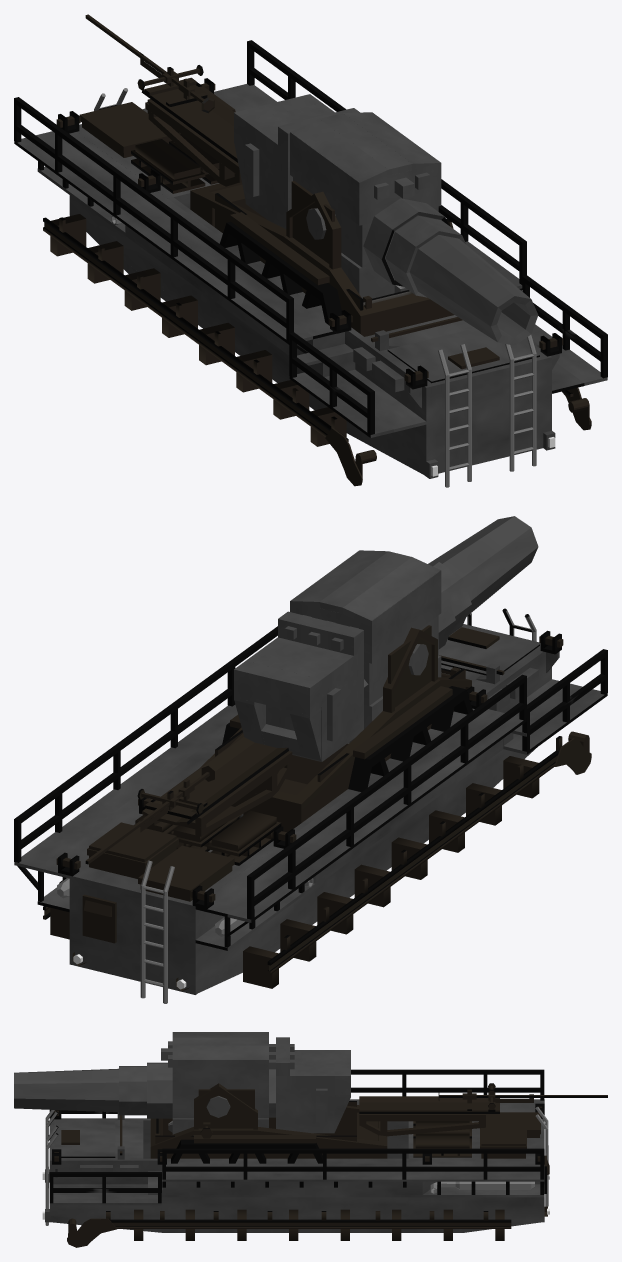
The model's file is karl.glb.
The picture shows the model from 3 angles, top to bottom: view 1: azimuth 30°, elevation 25°; view 2: azimuth 150°, elevation 25°; view 3: azimuth 270°, elevation 25°; orthographic projection. The views are drawn at different scales.
Visible parts, largest first — view 1: Hull, Barrel, Turret, BarrelGun; view 2: Hull, Barrel, Turret, BarrelGun; view 3: Hull, Barrel, Turret, BarrelGun.
Part boxes in pixels (x1,y1,x2,y2): Hull: (14,40,607,487); Barrel: (234,94,448,298); Turret: (85,14,454,336); BarrelGun: (385,216,538,345); Hull: (14,608,607,1003); Barrel: (234,550,455,761); Turret: (85,625,471,864); BarrelGun: (428,516,538,635); Hull: (45,1069,549,1247); Barrel: (147,1032,350,1135); Turret: (150,1083,607,1158); BarrelGun: (14,1066,146,1115).
Bounding box in the file's own units: 1.15 × 1.13 × 3.58.
1 material, 1 textured.
